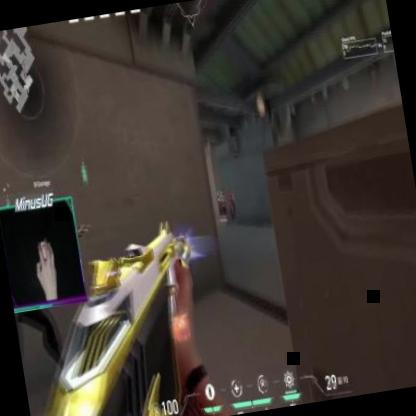enemy: (226, 188, 237, 225), (216, 188, 228, 214)
enemy_head: (228, 189, 232, 195), (221, 191, 224, 196)
